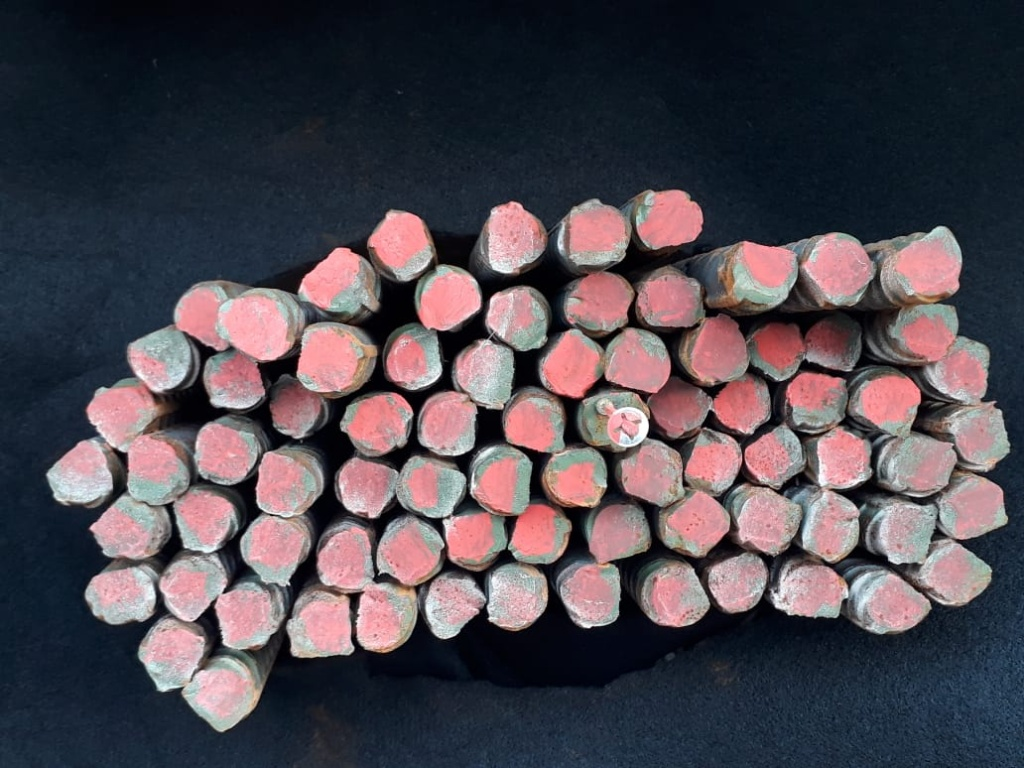dipstick: (217, 295, 291, 360), (806, 233, 872, 305), (182, 668, 254, 732), (300, 248, 371, 312), (897, 226, 961, 296), (369, 210, 432, 281), (239, 517, 304, 585), (297, 327, 364, 392), (541, 329, 605, 397), (664, 491, 730, 556), (126, 329, 193, 393), (343, 393, 411, 456), (396, 456, 465, 518), (799, 491, 860, 561), (46, 440, 112, 504), (378, 519, 442, 585), (604, 329, 670, 393), (622, 439, 685, 506), (926, 335, 987, 404), (161, 559, 227, 622), (140, 625, 202, 692), (685, 316, 749, 380), (487, 564, 548, 631), (85, 567, 156, 624), (88, 387, 151, 451), (734, 241, 798, 304), (858, 375, 921, 439), (641, 567, 709, 626), (489, 204, 547, 273), (128, 441, 190, 505), (455, 341, 514, 408), (636, 190, 703, 249), (90, 499, 155, 559), (194, 424, 258, 484), (488, 286, 548, 350), (565, 272, 632, 329), (569, 201, 630, 263), (256, 453, 316, 516), (357, 589, 417, 652), (650, 374, 710, 437), (578, 392, 649, 445), (925, 546, 991, 603), (685, 427, 741, 494), (890, 305, 958, 360), (739, 493, 800, 554), (173, 490, 233, 552), (288, 597, 351, 656), (425, 578, 486, 638), (545, 447, 606, 507), (508, 503, 569, 563), (561, 565, 619, 628), (946, 480, 1007, 539), (174, 286, 230, 350), (864, 575, 930, 629), (338, 458, 398, 517), (474, 451, 531, 513), (713, 372, 770, 434), (590, 505, 650, 563), (745, 425, 803, 485), (203, 352, 264, 409), (387, 327, 442, 390), (421, 273, 480, 331), (787, 373, 848, 429), (804, 313, 862, 371), (710, 553, 767, 612), (444, 512, 507, 565), (215, 591, 273, 648), (420, 394, 475, 454), (747, 323, 804, 380), (319, 528, 372, 589), (506, 397, 564, 452), (955, 407, 1010, 464), (268, 379, 321, 437), (817, 429, 869, 488), (896, 439, 955, 490), (638, 276, 698, 325), (785, 566, 841, 618), (886, 505, 935, 564)
